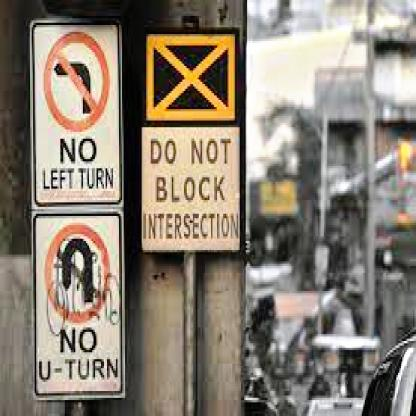No left turn: (33, 22, 119, 136)
